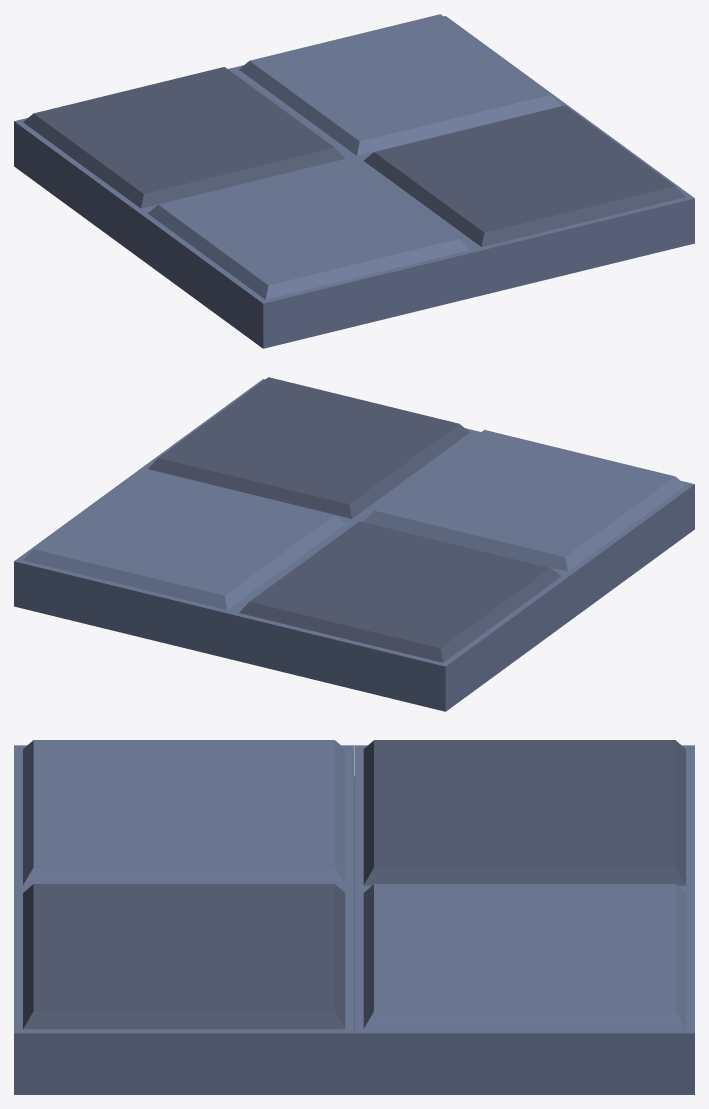
The model's file is floor_001.glb.
3 renders of one model, top to bottom at view 1: azimuth 30°, elevation 25°; view 2: azimuth 150°, elevation 25°; view 3: azimuth 270°, elevation 25°, orthographic. The views are drawn at different scales.
Visible parts, largest first — view 1: floor.001; view 2: floor.001; view 3: floor.001.
Part boxes in pixels (bbox=[...]): floor.001: bbox=[14, 14, 694, 348]; floor.001: bbox=[14, 377, 694, 711]; floor.001: bbox=[14, 740, 694, 1094].
Bounding box in the file's own units: 2 × 0.2444 × 2.
